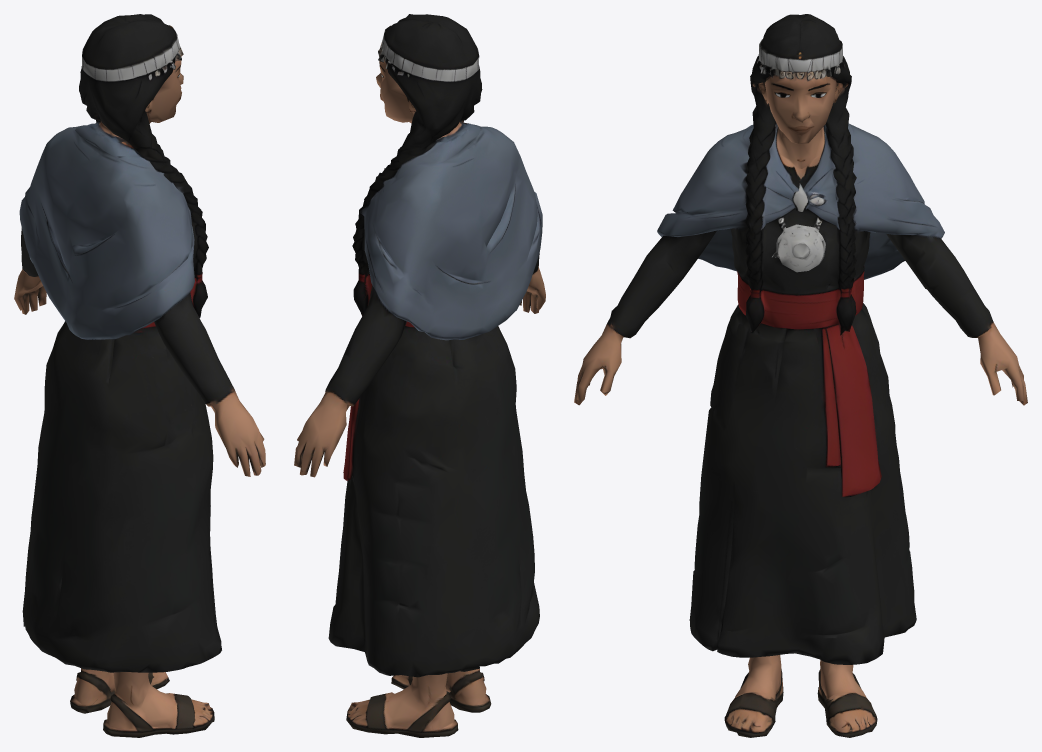
Rendered from d4974950-0c0c-4f3f-b2d9-e39c06c27472_model_url.glb.
3 renders of one model, left to right at view 1: azimuth 30°, elevation 25°; view 2: azimuth 150°, elevation 25°; view 3: azimuth 270°, elevation 25°, orthographic.
Visible parts, largest first — view 1: tripo_node_d4974950-0c0c-4f3f-b2d9-e39c06c27472; view 2: tripo_node_d4974950-0c0c-4f3f-b2d9-e39c06c27472; view 3: tripo_node_d4974950-0c0c-4f3f-b2d9-e39c06c27472.
Part boxes in pixels (<box>): tripo_node_d4974950-0c0c-4f3f-b2d9-e39c06c27472: <box>14,14,265,737</box>; tripo_node_d4974950-0c0c-4f3f-b2d9-e39c06c27472: <box>294,14,545,737</box>; tripo_node_d4974950-0c0c-4f3f-b2d9-e39c06c27472: <box>574,14,1027,737</box>.
Bounding box in the file's own units: 0.2444 × 1 × 0.5953.
1 material, 1 textured.
